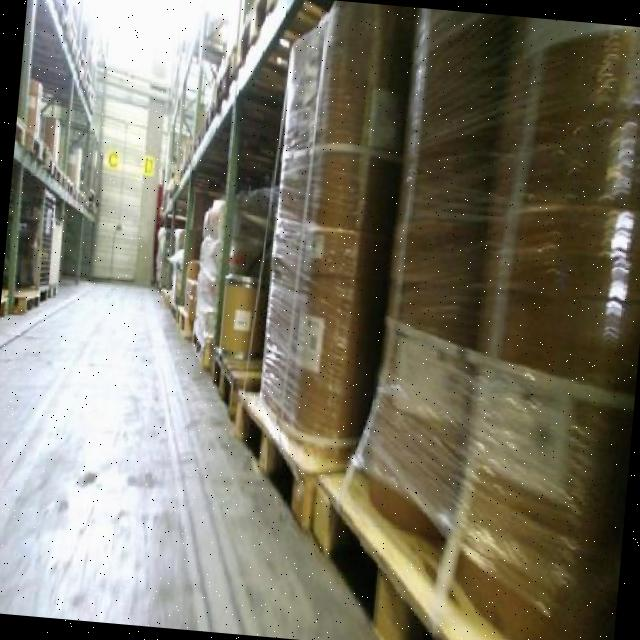pallet: (220, 381, 323, 554), (9, 287, 44, 322)
